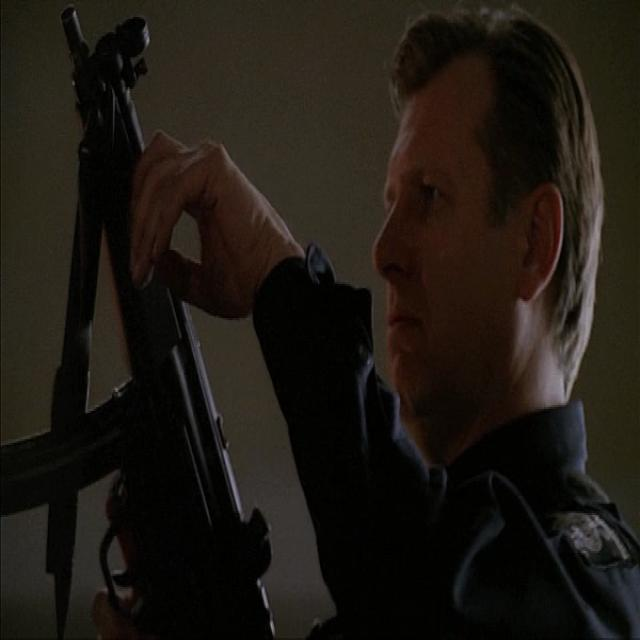rifle: (32, 1, 285, 640)
